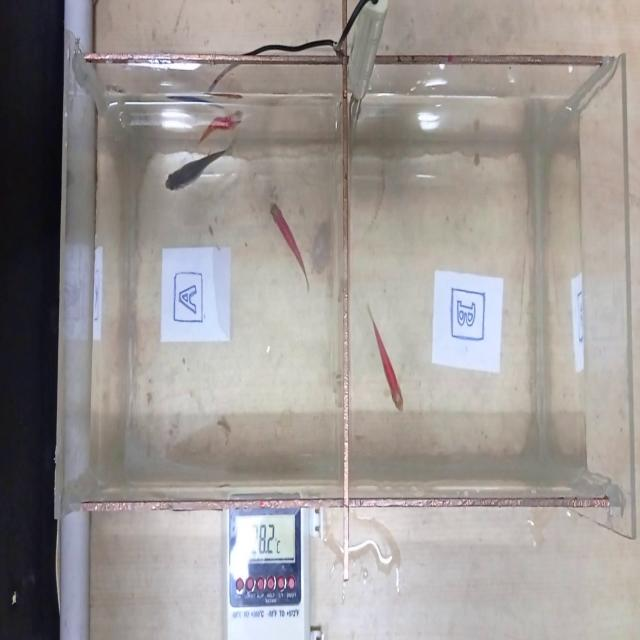Fish A1: (153, 142, 244, 212)
Fish A2: (189, 103, 244, 151)
Fish A3: (264, 194, 322, 306)
Fish B: (362, 288, 416, 427)
